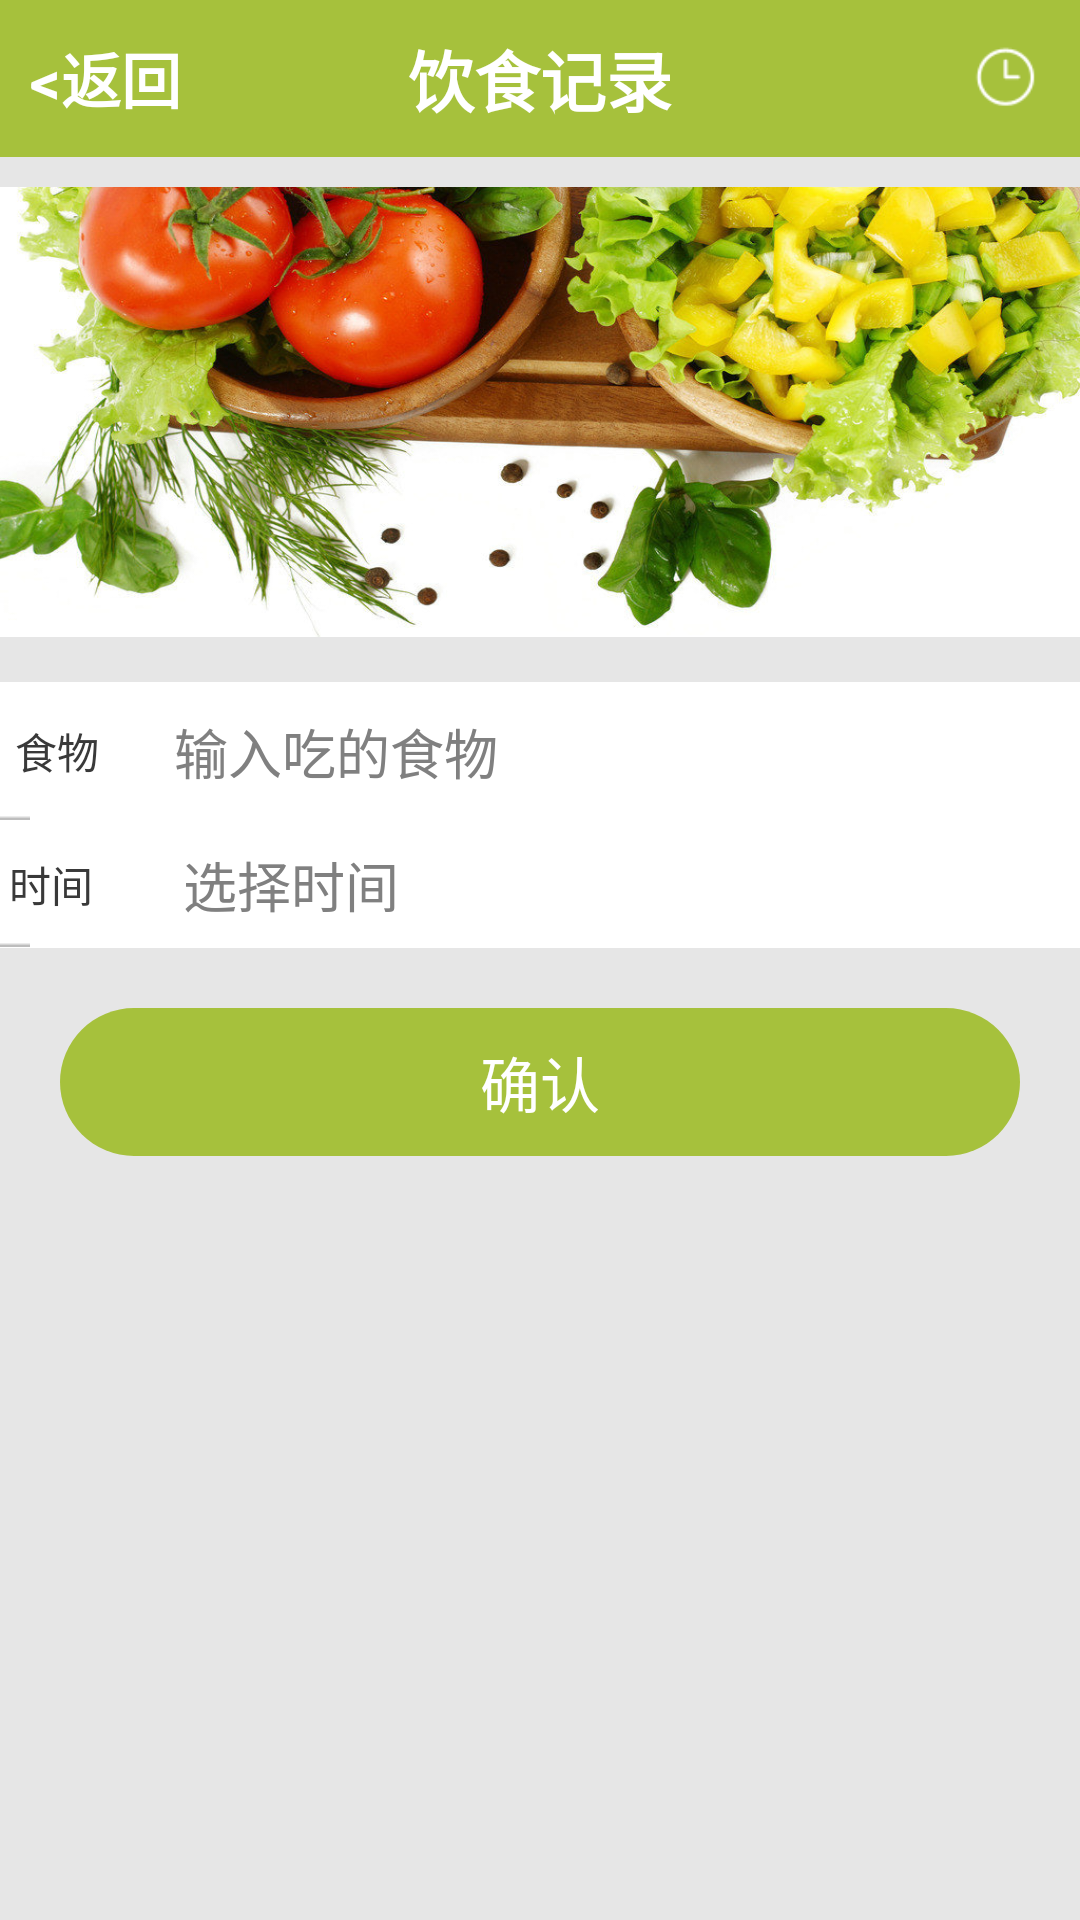

Screen size 1080px x 1920px. Icon name, then its box in pixels as (x1, y1, x2, y2):
pocket clock: (976, 47, 1035, 106)
